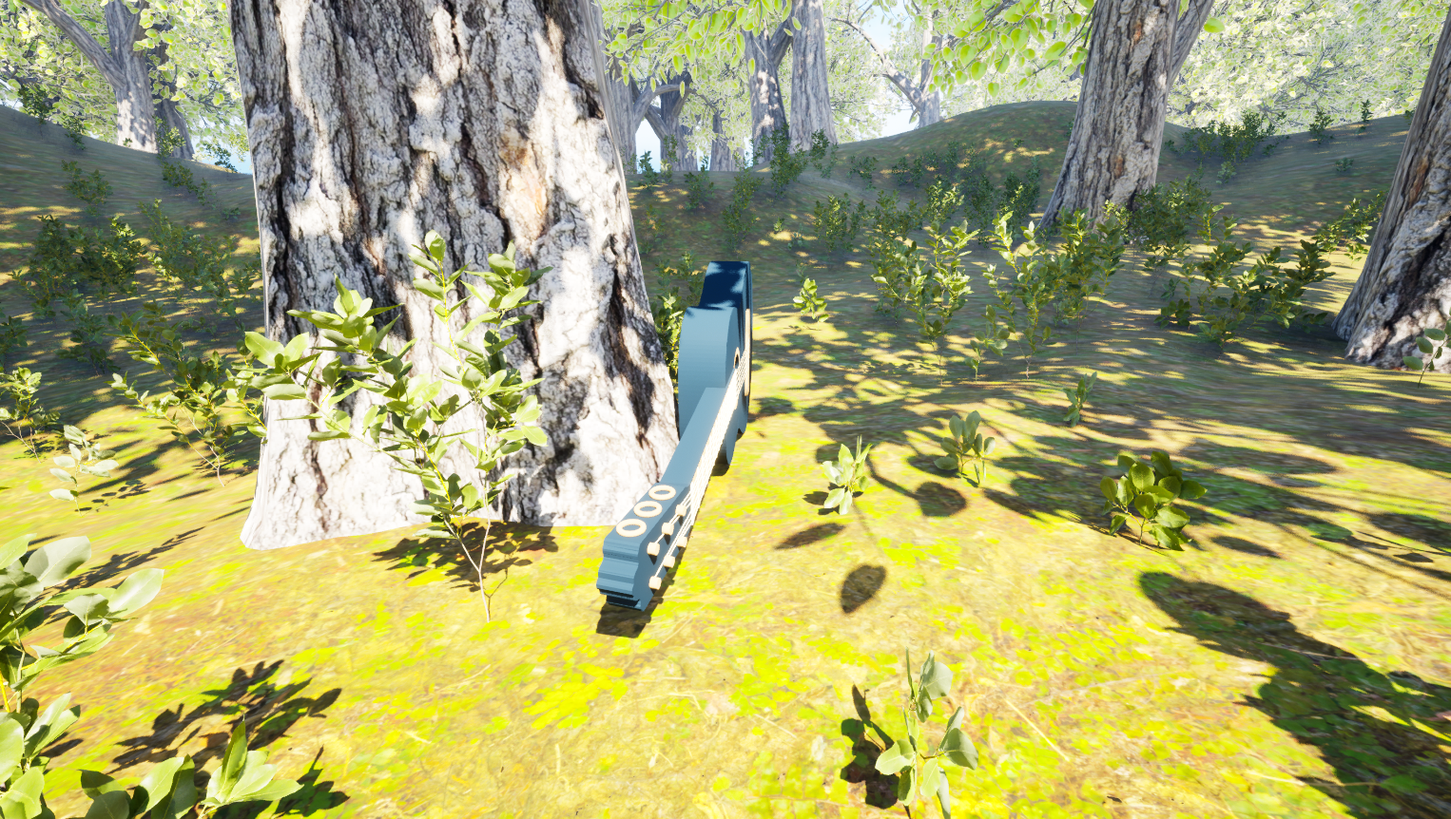Guitar: (549, 254, 757, 753)
